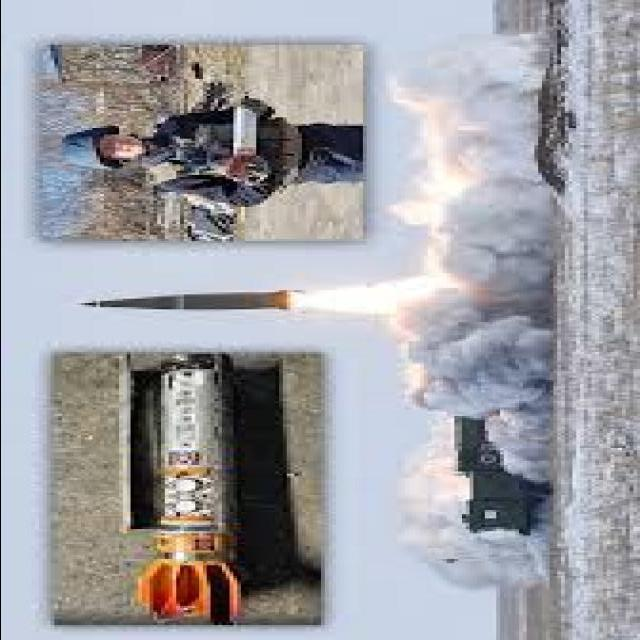missile: (72, 283, 314, 321)
